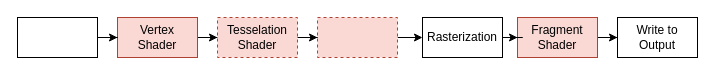
This 715x75 diagram has some shape labels left out. Here are the shapes that lost their labels. From the top down, the centre of each, then its label:
point 57,37: Input Assembly
point 357,37: Geometry Shader
